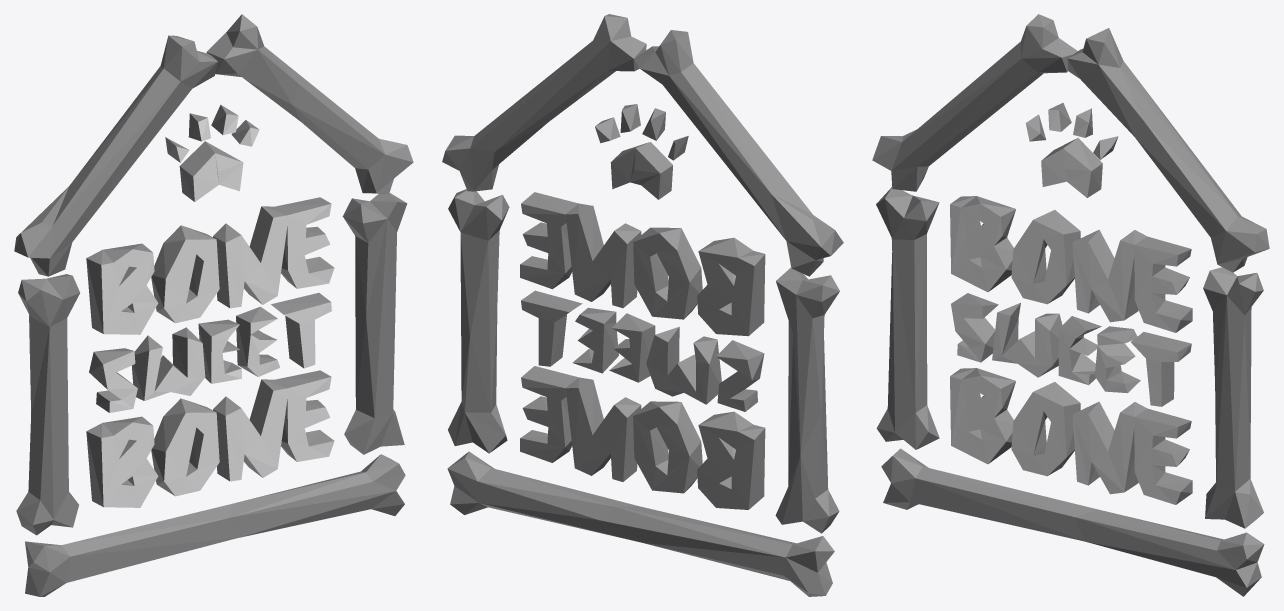
File: bone_sweet_bone_sign.fbx
3 renders of one model, left to right at view 1: azimuth 30°, elevation 25°; view 2: azimuth 150°, elevation 25°; view 3: azimuth 330°, elevation 25°, orthographic.
Parts seen in each view (by area): view 1: bone_sweet_bone; view 2: bone_sweet_bone; view 3: bone_sweet_bone.
Part boxes in pixels (box(x1,y1,x2,y2)): bone_sweet_bone: box(14, 14, 413, 596); bone_sweet_bone: box(442, 14, 843, 596); bone_sweet_bone: box(872, 14, 1269, 596).
Bounding box in the file's own units: 0.765 × 1 × 0.0647.
